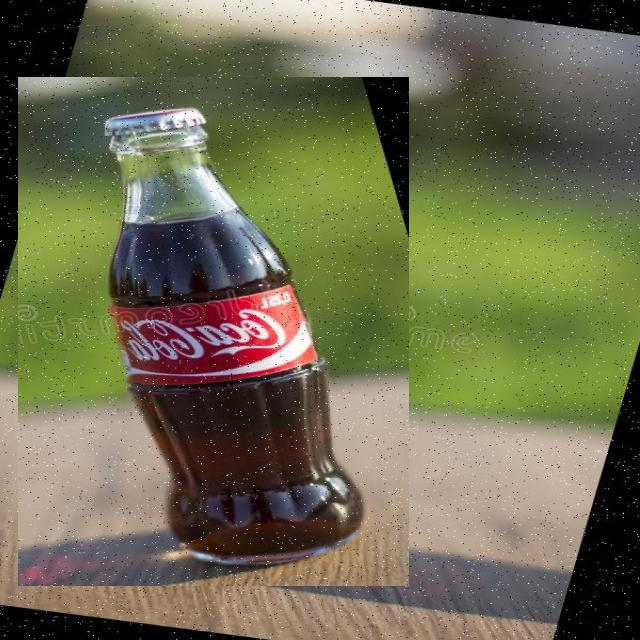coca-cola: (18, 77, 409, 586)
